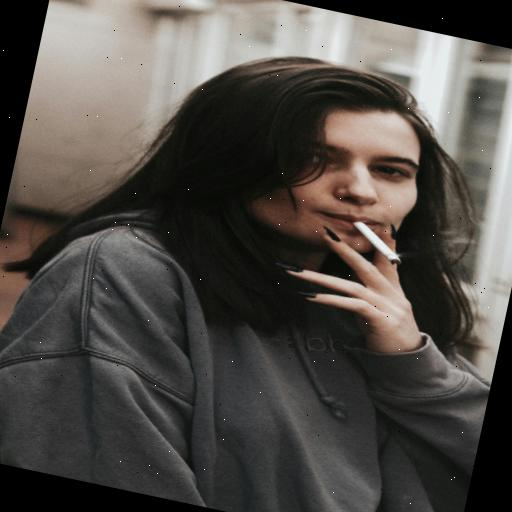terdeteksi merokok: (258, 111, 452, 284)
